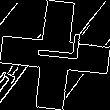L_W: (28, 37, 82, 73)
